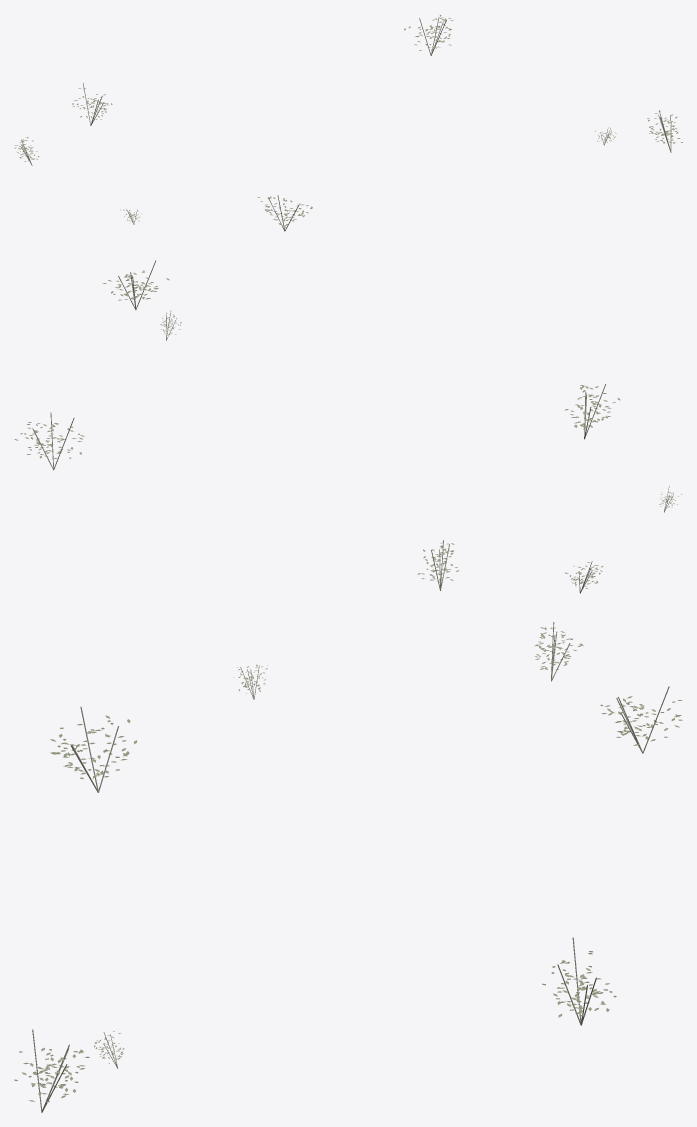
File: AE_Shrubs_-1_-2.fbx
3 renders of one model, top to bottom at view 1: azimuth 30°, elevation 25°; view 2: azimuth 150°, elevation 25°; view 3: azimuth 270°, elevation 25°, orthographic. The views are drawn at different scales.
Parts seen in each view (by area): view 1: AE_Shrubs_-1_-2_LOD0; view 2: AE_Shrubs_-1_-2_LOD0; view 3: AE_Shrubs_-1_-2_LOD0.
Part boxes in pixels (bbox=[...]): AE_Shrubs_-1_-2_LOD0: bbox=[14, 14, 682, 231]; AE_Shrubs_-1_-2_LOD0: bbox=[14, 260, 682, 593]; AE_Shrubs_-1_-2_LOD0: bbox=[14, 622, 682, 1112].
Size of what is drawn, in the model's own units: 2558 by 229 by 1582.
